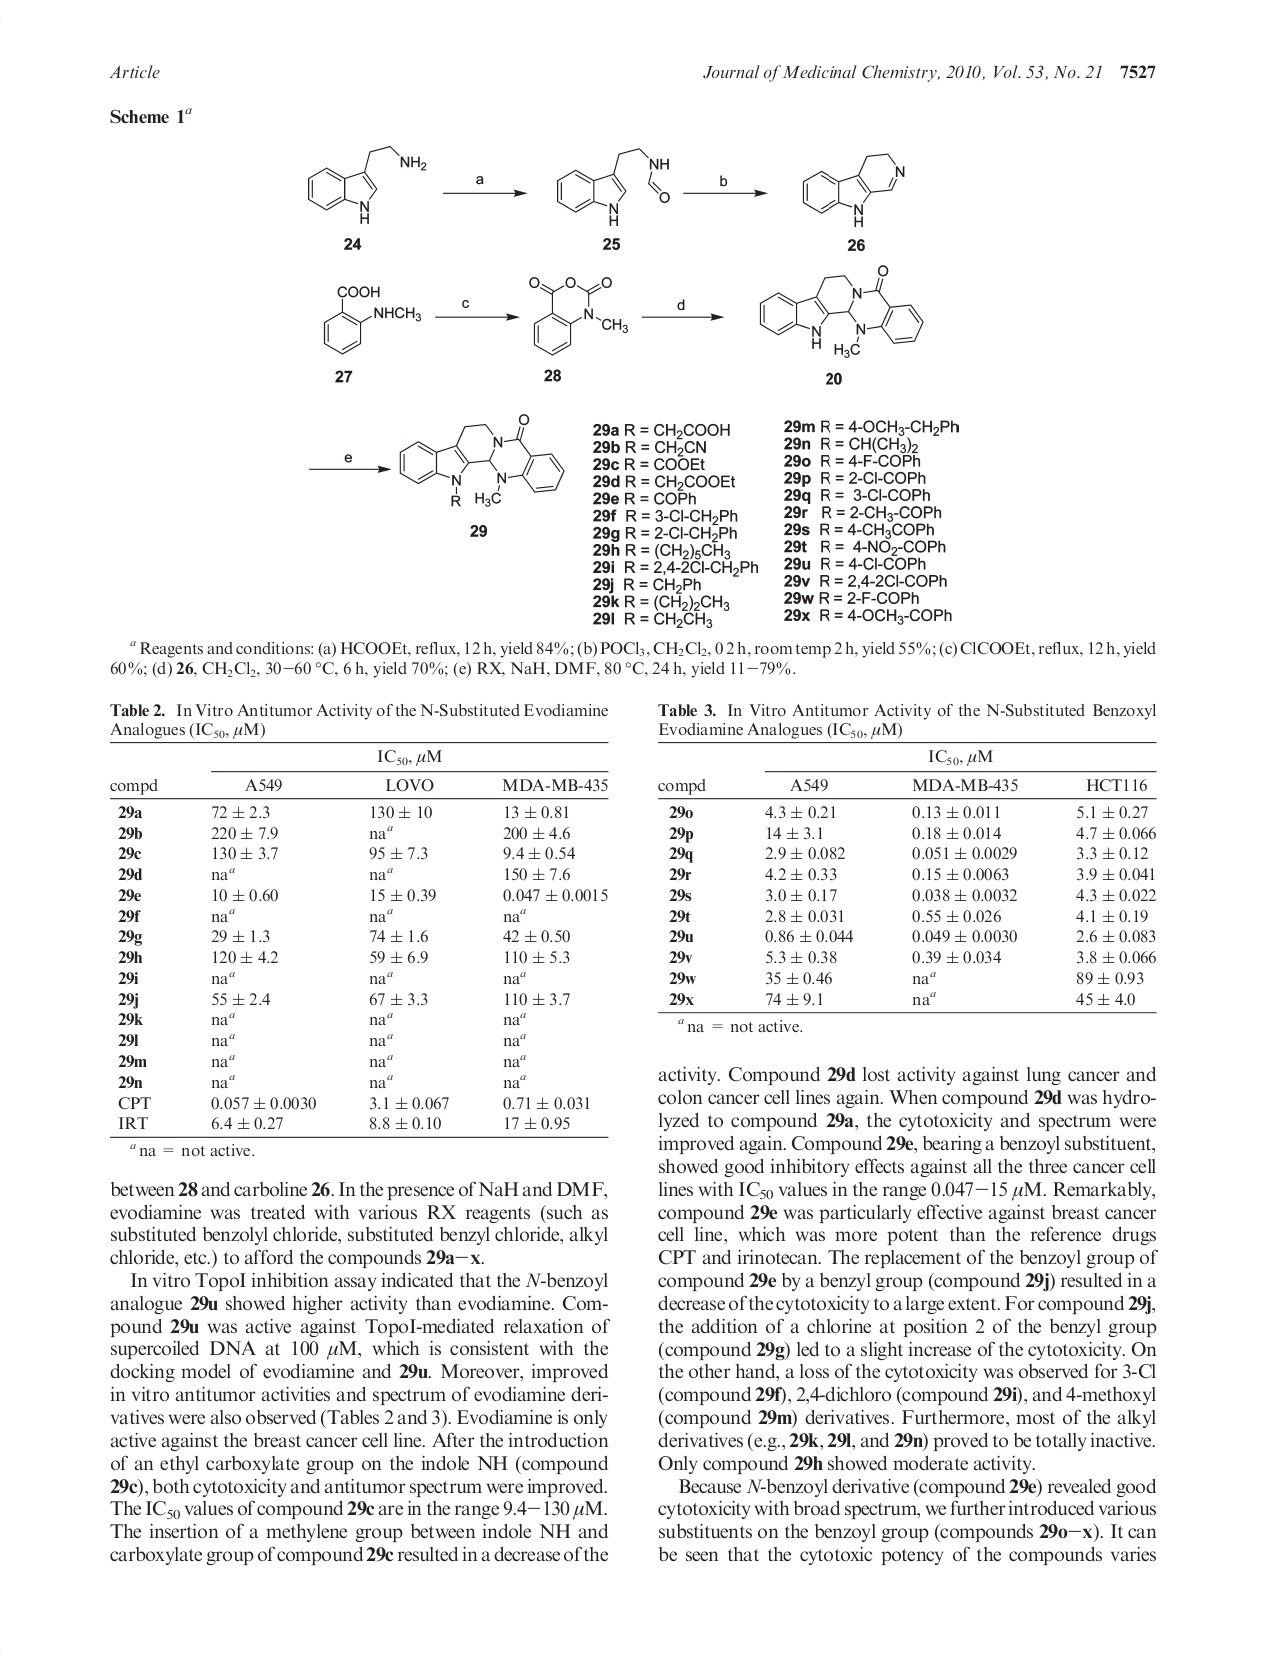exist_molecular: (398, 410, 569, 509), (758, 265, 926, 356), (305, 144, 430, 227), (555, 146, 674, 227), (527, 273, 630, 358), (802, 152, 906, 229), (323, 279, 430, 352)
